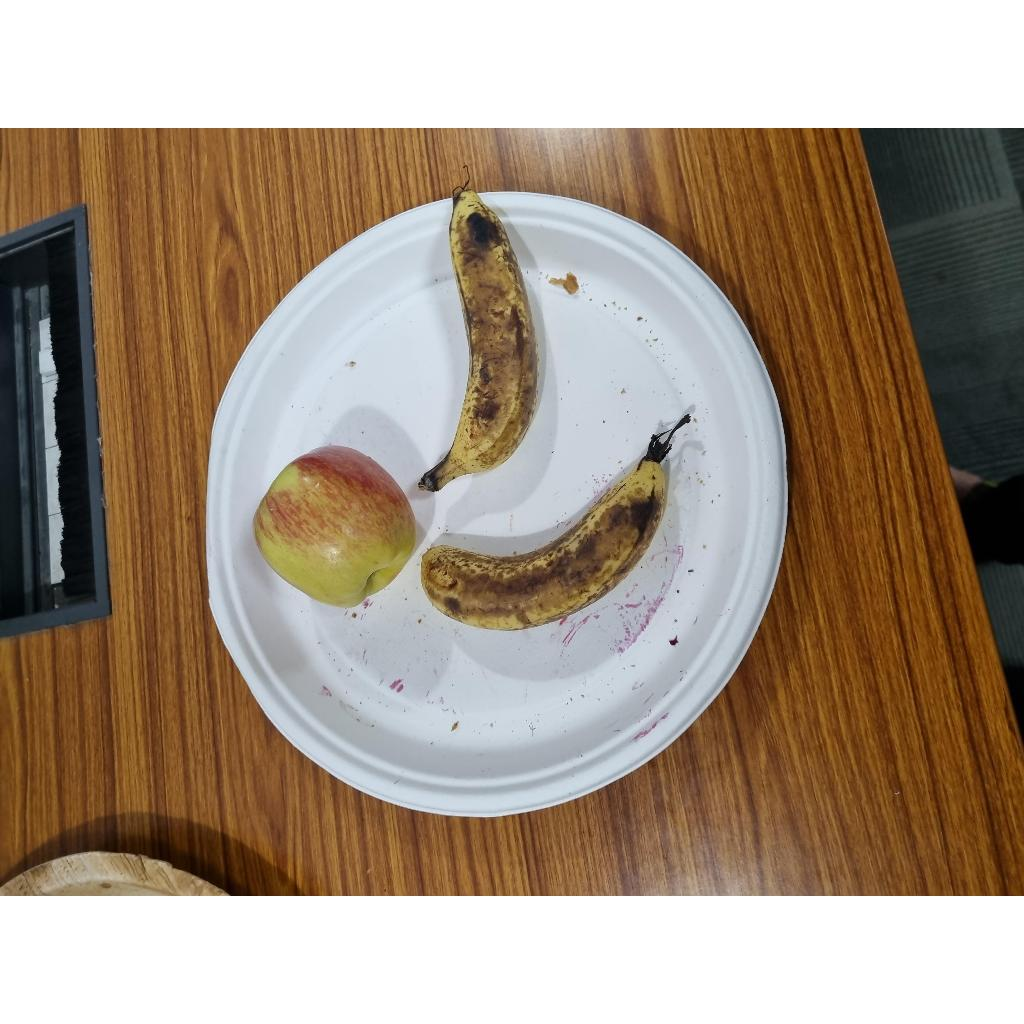apple: (244, 442, 411, 613)
banana: (421, 458, 668, 630), (419, 188, 539, 491)
